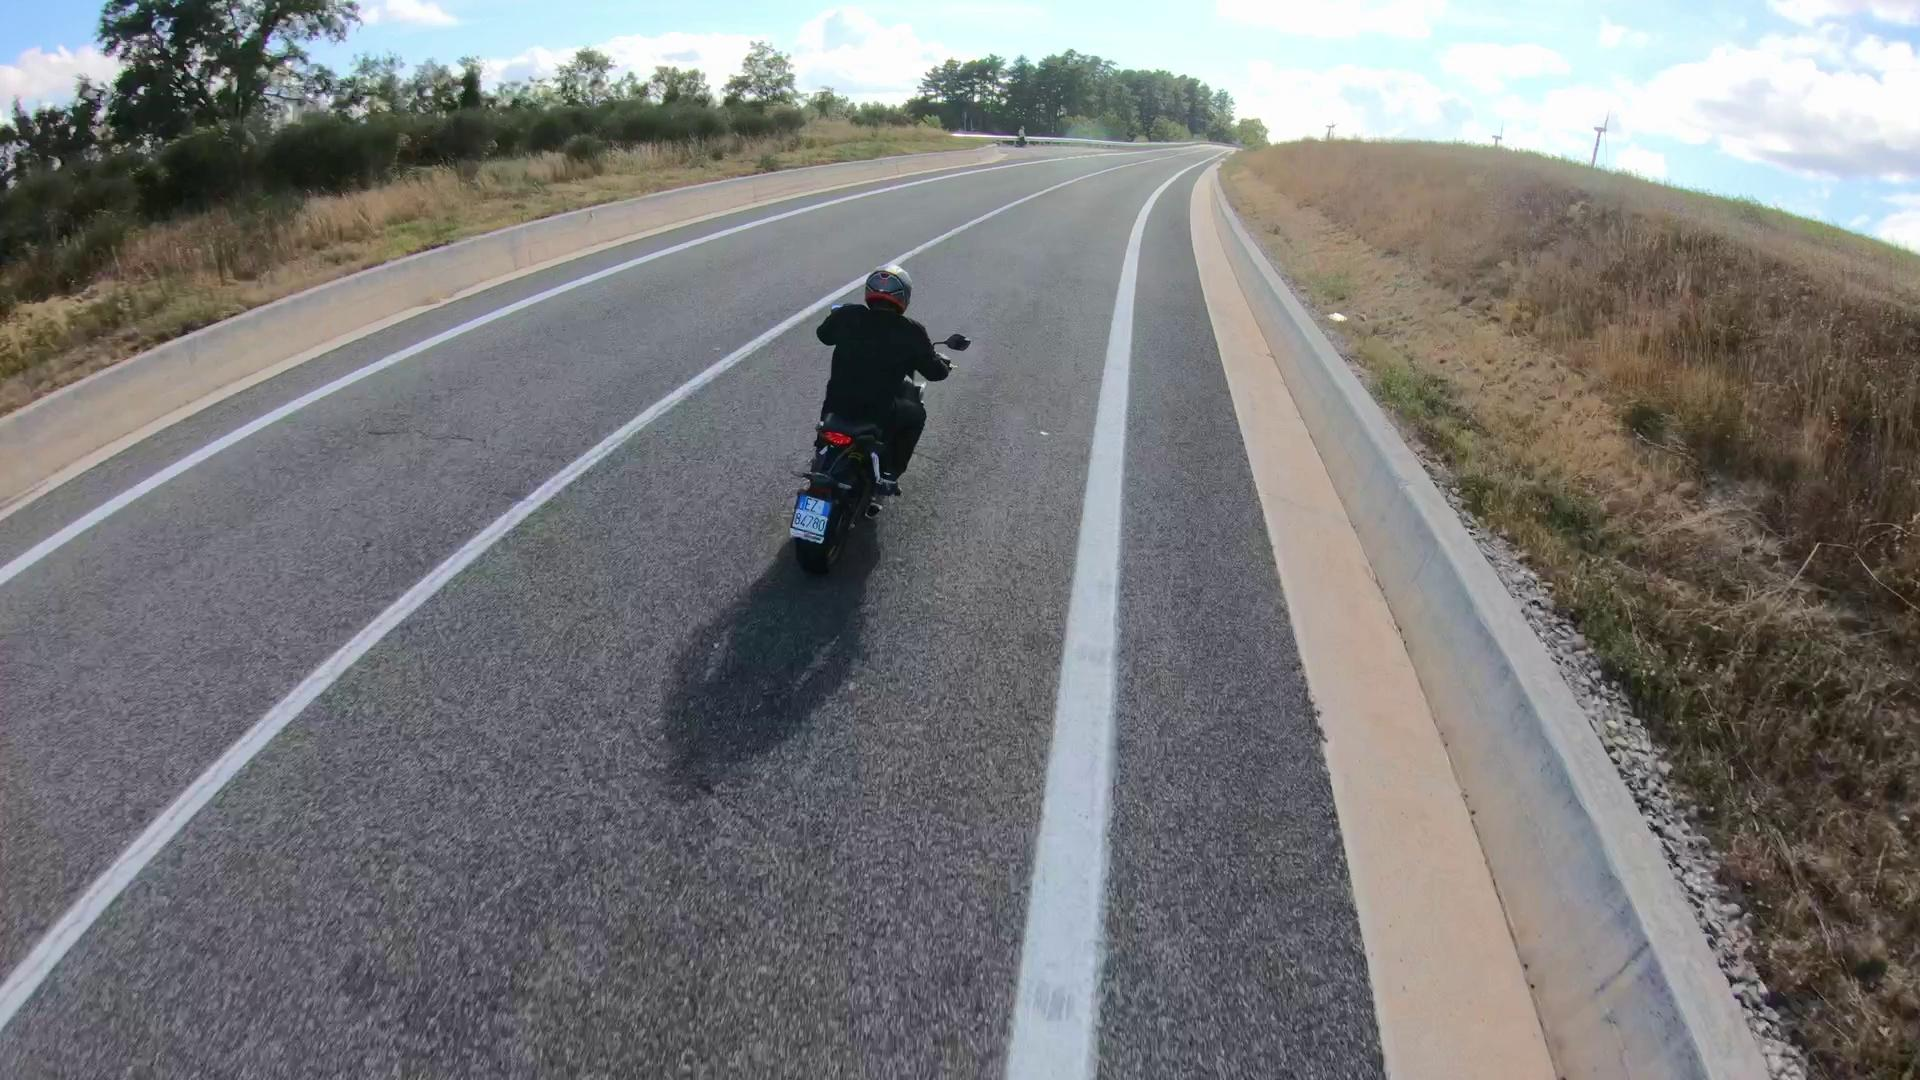cow: (790, 324, 975, 575)
horse: (812, 255, 968, 487)
